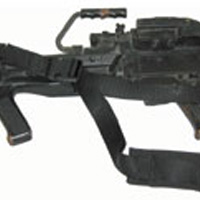rifle: (4, 14, 197, 182)
